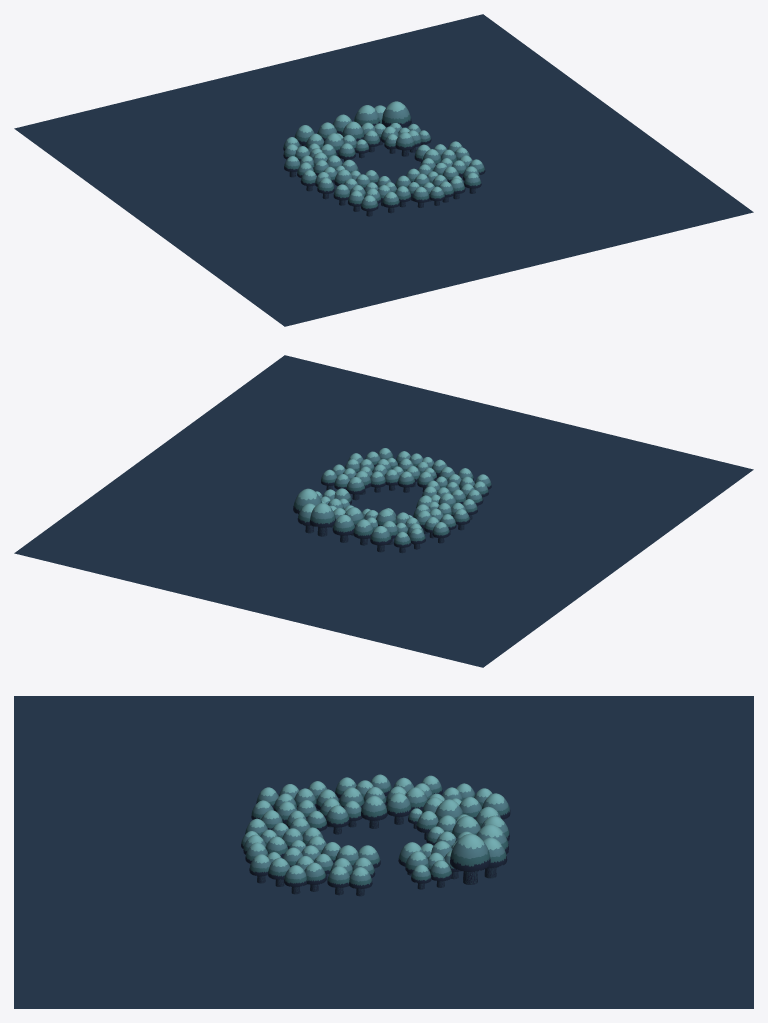
The model's file is Start Area.glb.
3 renders of one model, top to bottom at view 1: azimuth 30°, elevation 25°; view 2: azimuth 150°, elevation 25°; view 3: azimuth 270°, elevation 25°, orthographic. The views are drawn at different scales.
Visible parts, largest first — view 1: Ground, Placeholder Tree.379; view 2: Ground, Placeholder Tree.414; view 3: Ground, Placeholder Tree.379, Placeholder Tree.349, Placeholder Tree.415, Placeholder Tree.347.
Part boxes in pixels (x1,y1,x2,y2): Ground: (14,14,753,326); Placeholder Tree.379: (382,101,411,127); Ground: (14,355,753,667); Placeholder Tree.414: (310,503,335,536); Ground: (14,696,753,1008); Placeholder Tree.379: (450,833,490,884); Placeholder Tree.349: (361,796,387,828); Placeholder Tree.415: (483,837,507,878); Placeholder Tree.347: (386,792,411,824).
Bounding box in the file's own units: 100 × 7.26 × 100.
3 materials, 2 textured.
